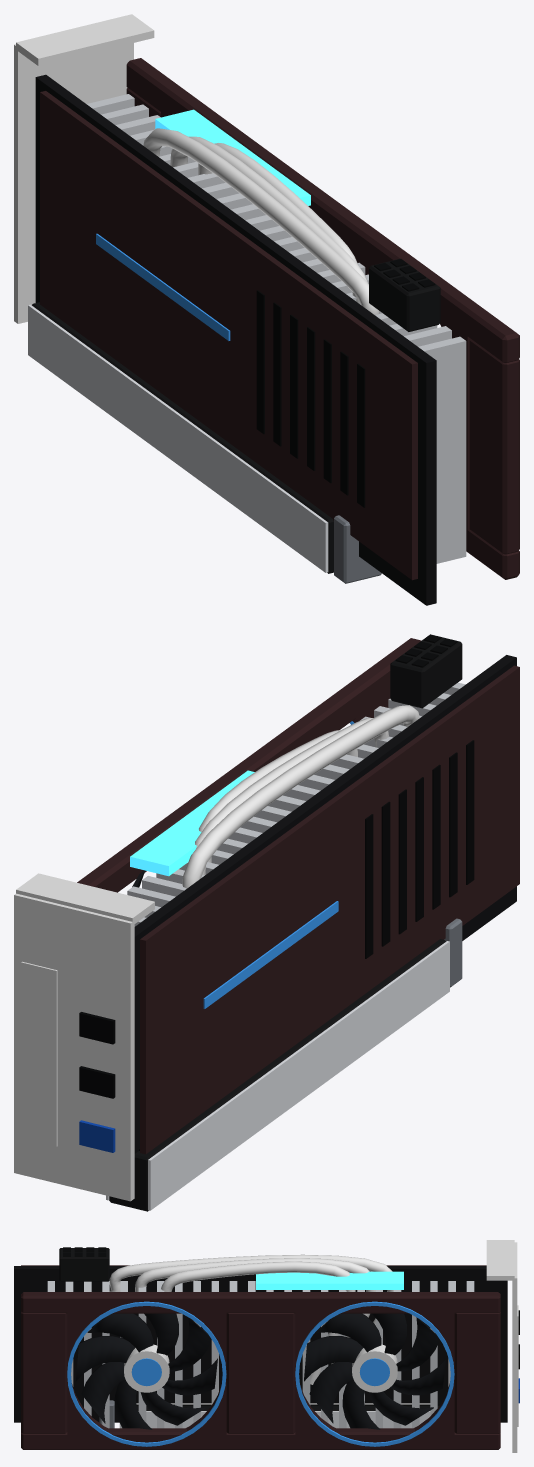
File: hwm_gpu_rtx3060.glb
3 views of the same model, one above another, from view 1: azimuth 30°, elevation 25°; view 2: azimuth 150°, elevation 25°; view 3: azimuth 270°, elevation 25° (orthographic). The views are drawn at different scales.
Parts seen in each view (by area): view 1: Card_0, Slot_0; view 2: Card_0, Slot_0; view 3: Card_0, Rotor_X_1, Rotor_X_0, Slot_0.
Boxes of the visible parts, x1,y1,x2,y2 form: Card_0: [14, 14, 519, 605]; Slot_0: [28, 302, 381, 583]; Card_0: [14, 634, 519, 1201]; Slot_0: [106, 918, 462, 1211]; Card_0: [14, 1240, 519, 1452]; Rotor_X_1: [75, 1313, 217, 1429]; Rotor_X_0: [304, 1313, 445, 1429]; Slot_0: [99, 1400, 439, 1428].
Size of the model in its own units: 0.0375 by 0.0916 by 0.2152.
